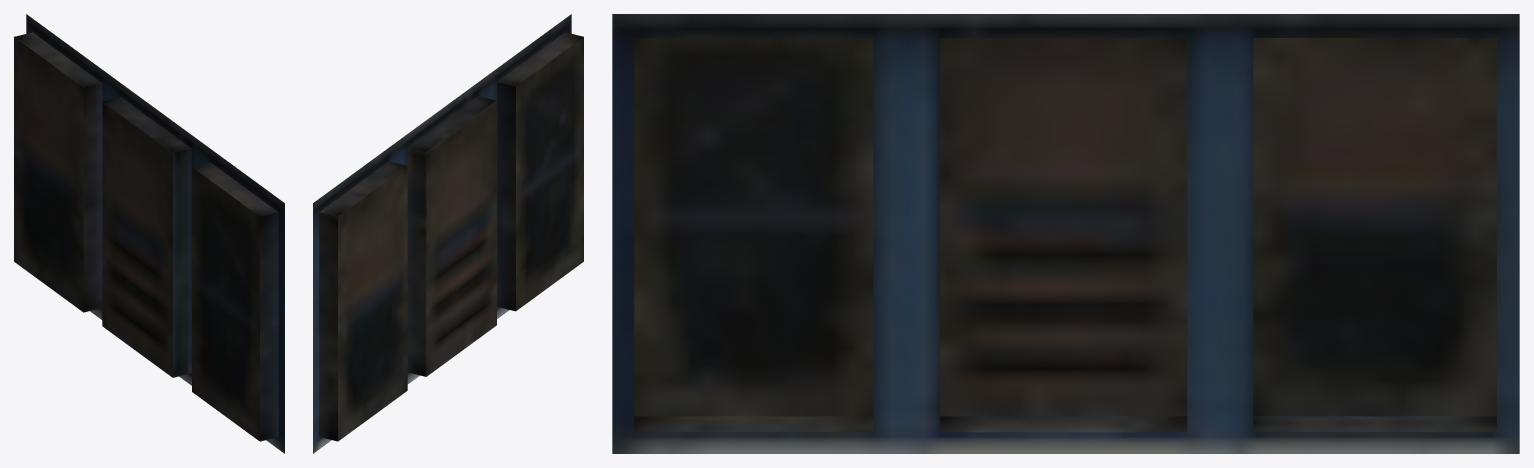
File: TripleWindow_01.FBX
3 views of the same model, side by side, from view 1: azimuth 30°, elevation 25°; view 2: azimuth 150°, elevation 25°; view 3: azimuth 270°, elevation 25° (orthographic). The views are drawn at different scales.
Parts seen in each view (by area): view 1: TripleWindow_01; view 2: TripleWindow_01; view 3: TripleWindow_01.
Boxes of the visible parts, left/top/right/bottom form: TripleWindow_01: left=14, top=14, right=284, bottom=453; TripleWindow_01: left=313, top=14, right=583, bottom=453; TripleWindow_01: left=612, top=14, right=1519, bottom=453.
Bounding box in the file's own units: 15 × 192 × 359.
